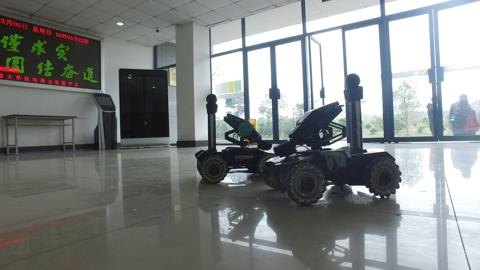chariot: (263, 72, 401, 211), (194, 89, 291, 187)
